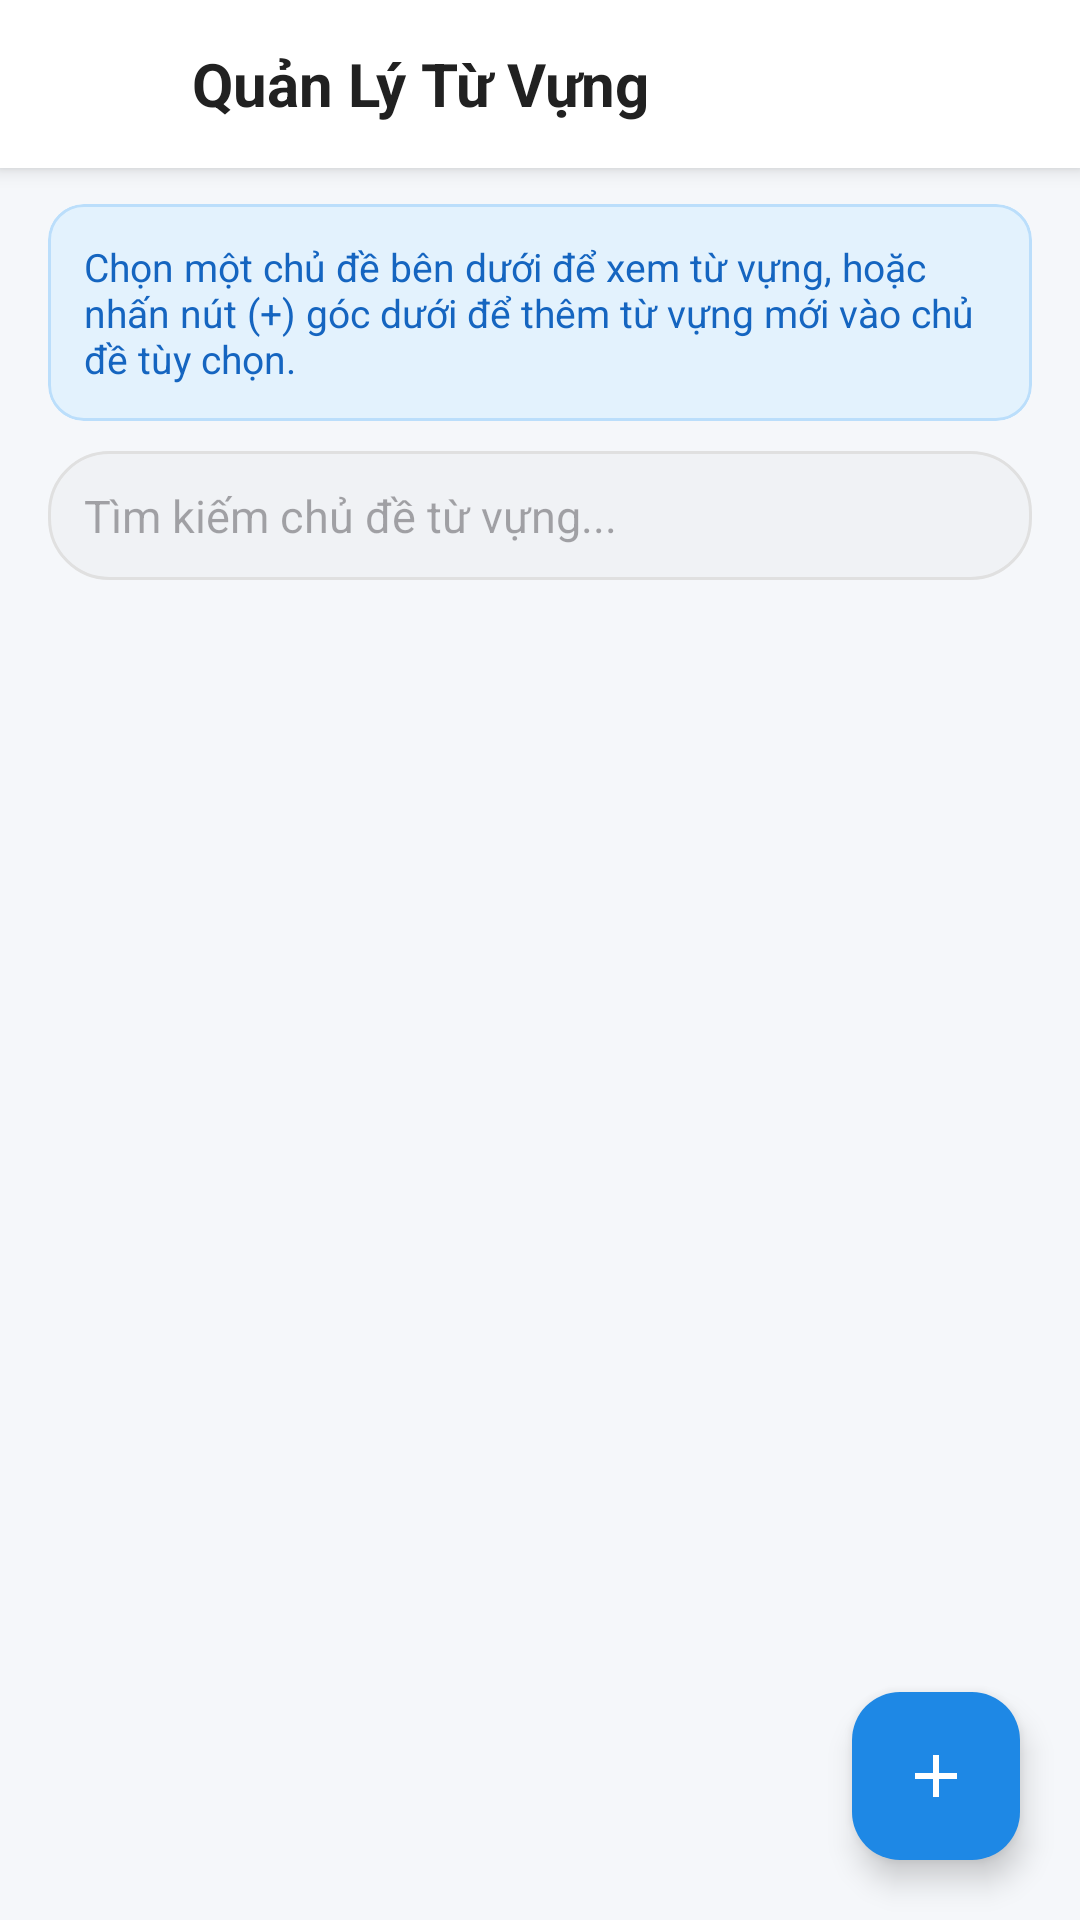

Screen size 1080px x 1920px. Icon name, then its center in pixels as point (x, y):
Thêm từ vựng mới: point (936, 1776)
